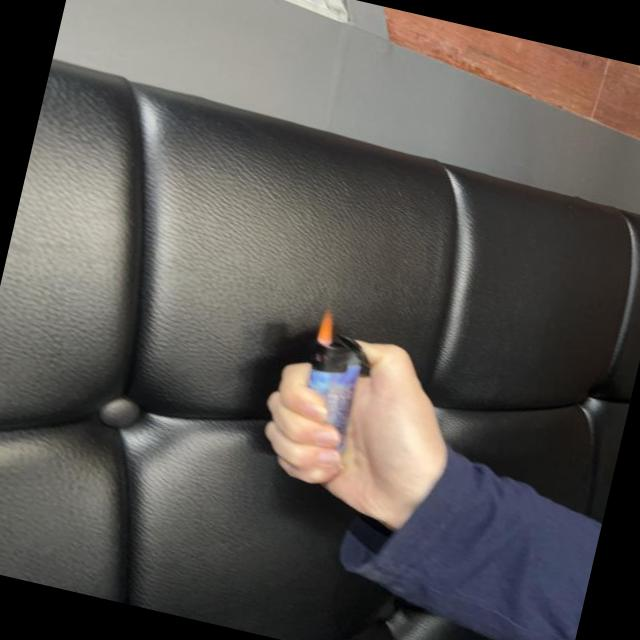Fire: (316, 306, 340, 346)
